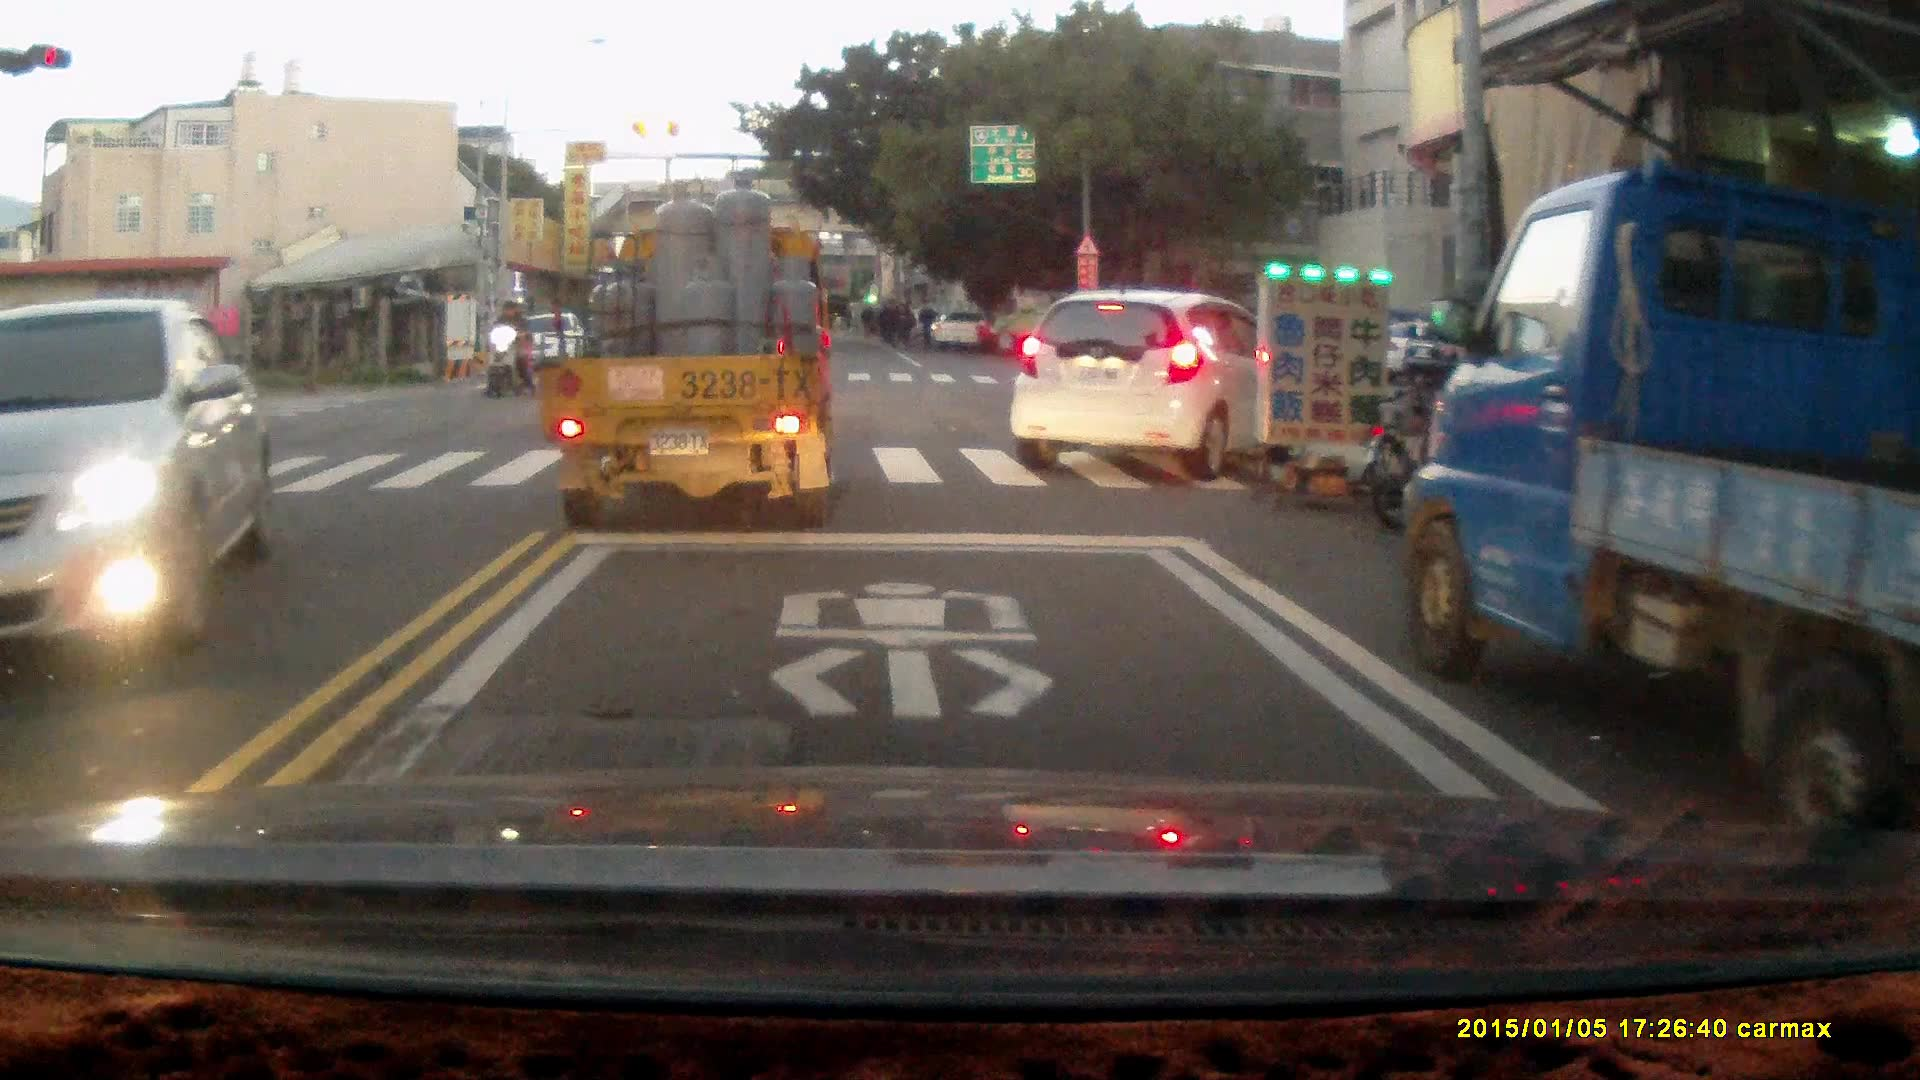rider: (483, 298, 535, 398)
vehicle: (1392, 173, 1920, 817), (535, 174, 839, 530), (1, 297, 269, 672), (1008, 287, 1283, 470), (507, 312, 588, 379)
